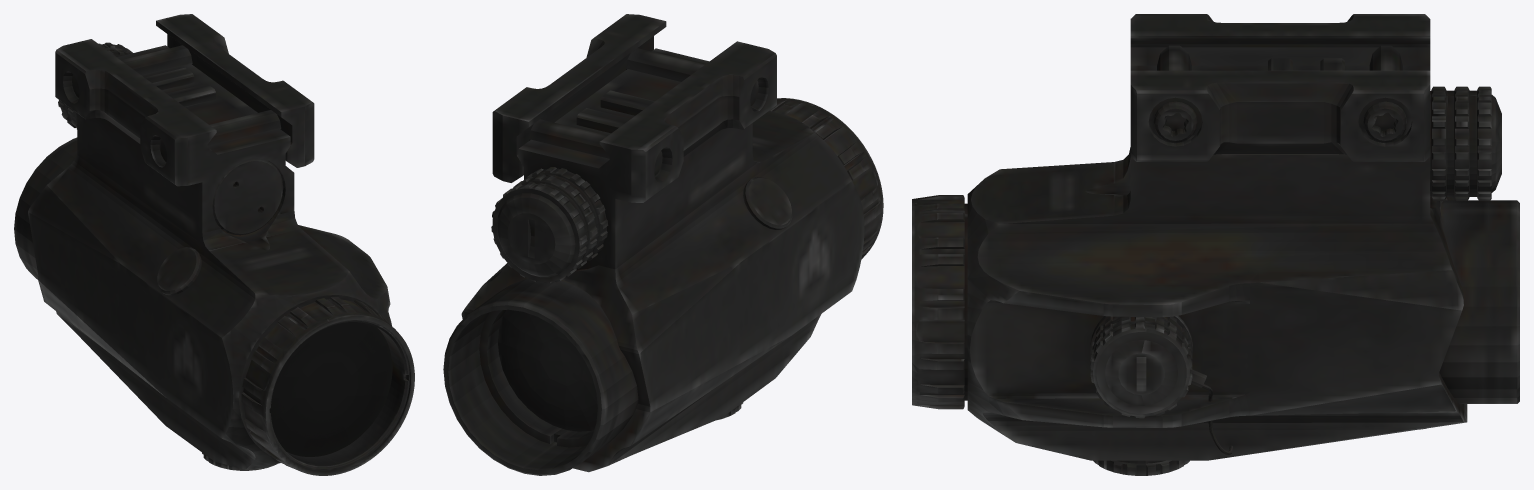
3 views of the same model, side by side, from view 1: azimuth 30°, elevation 25°; view 2: azimuth 150°, elevation 25°; view 3: azimuth 270°, elevation 25° (orthographic). The views are drawn at different scales.
Parts seen in each view (by area): view 1: TW_626bb8532c923541184624b4_PZ_Import; view 2: TW_626bb8532c923541184624b4_PZ_Import; view 3: TW_626bb8532c923541184624b4_PZ_Import.
Part boxes in pixels (box(x1,y1,x2,y2)): TW_626bb8532c923541184624b4_PZ_Import: box(14, 14, 414, 475); TW_626bb8532c923541184624b4_PZ_Import: box(443, 14, 883, 475); TW_626bb8532c923541184624b4_PZ_Import: box(912, 14, 1519, 475).
Bounding box in the file's own units: 0.0324 × 0.0664 × 0.0501.
1 material, 1 textured.
